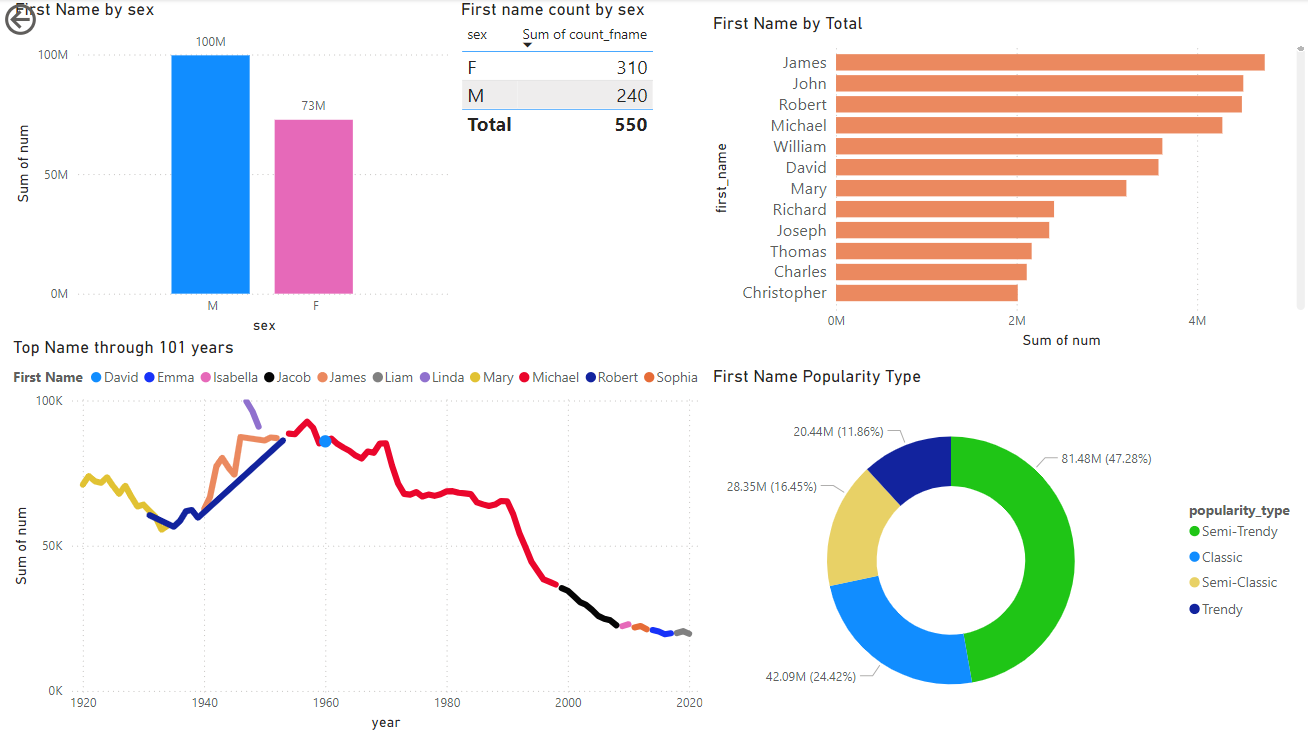

This screenshot's page, from the dashboard's own definition file:
{"tool":"powerbi","page":{"name":"Overview","canvas":[1280,720],"ordinal":0},"visuals":[{"type":"clusteredColumnChart","title":"First Name by sex","fields":{"Category":["baby_names usa_baby_names.sex"],"Y":["Sum(baby_names usa_baby_names.num)"]},"box":[10,0,434.6,330.7],"z":0},{"type":"clusteredBarChart","title":"First Name by Total","fields":{"Category":["baby_names usa_baby_names.first_name"],"Y":["Sum(baby_names usa_baby_names.num)"]},"box":[691.3,13.7,587.8,332],"z":1000},{"type":"donutChart","title":"First Name Popularity Type","fields":{"Category":["baby_names name_popularity.popularity_type"],"Y":["Sum(baby_names name_popularity.num)"]},"box":[691,358.6,588.3,360.6],"z":2000},{"type":"lineChart","title":"Top Name through 101 years","fields":{"Y":["Sum(baby_names top_names.num)"],"Series":["baby_names top_names.first_name"],"Category":["baby_names top_names.year"]},"box":[8.1,330.4,683,388.8],"z":3000},{"type":"actionButton","box":[0,0,100,40],"z":4000},{"type":"tableEx","title":"First name count by sex","fields":{"Values":["baby_names name_count.sex","Sum(baby_names name_count.count_fname)"]},"box":[445.2,0,246,330],"z":4001}]}

Visuals, with their boxes in screenshot pixels (x1, y1, x2, y2), scaled from the page's 1280x720 canvas onto the 1308x735 screenshot:
"First Name by sex" clusteredColumnChart: (10, 0, 454, 338)
"First Name by Total" clusteredBarChart: (706, 14, 1307, 353)
"First Name Popularity Type" donutChart: (706, 366, 1307, 734)
"Top Name through 101 years" lineChart: (8, 337, 706, 734)
actionButton: (0, 0, 102, 41)
"First name count by sex" tableEx: (455, 0, 706, 337)
